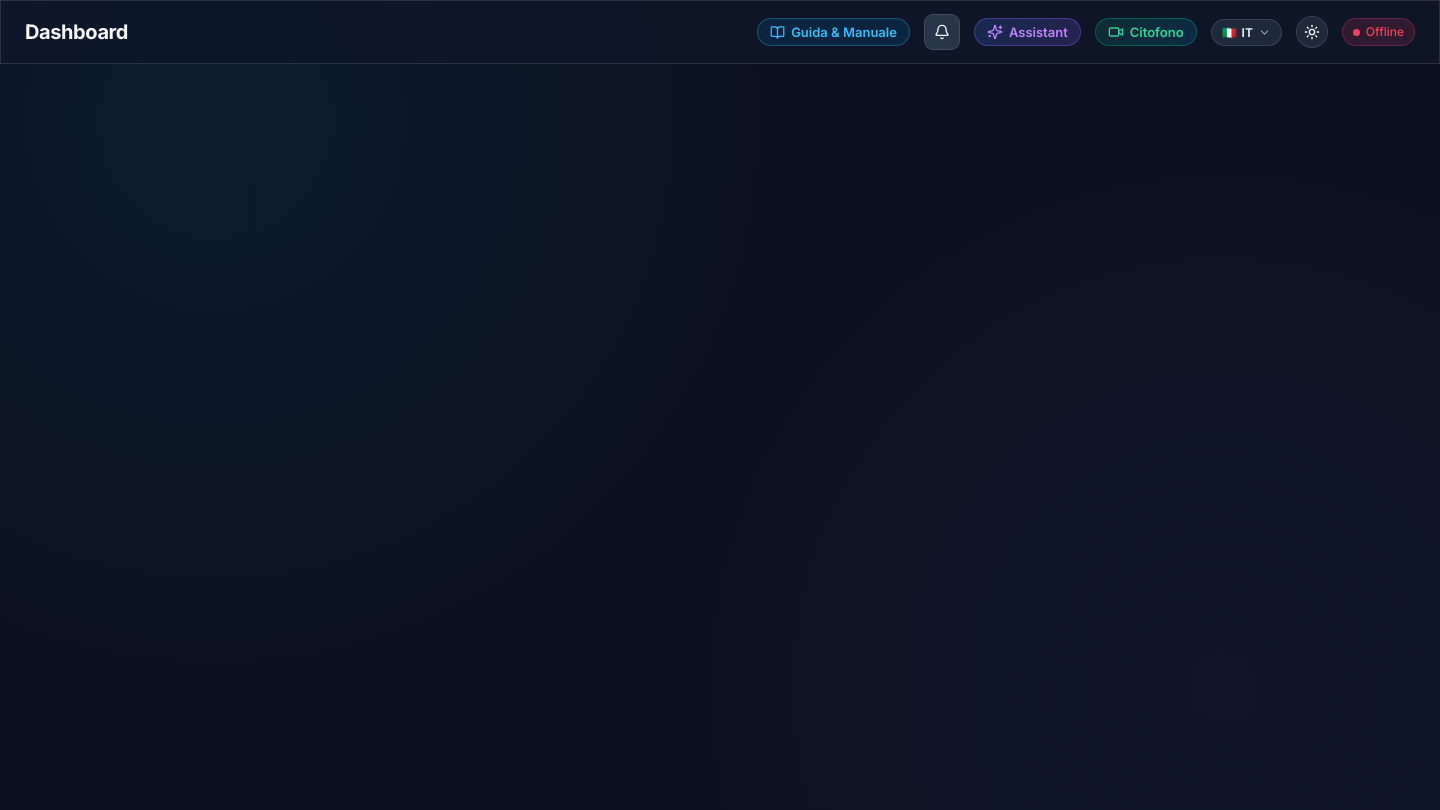
Test: AppTopbar.vue › opens language dropdown and switches language when selecting an option
The image size is (1440, 810).
Click the button with class "lang-quick-toggle". click: click(1246, 32)
box: [1211,18,1282,46]
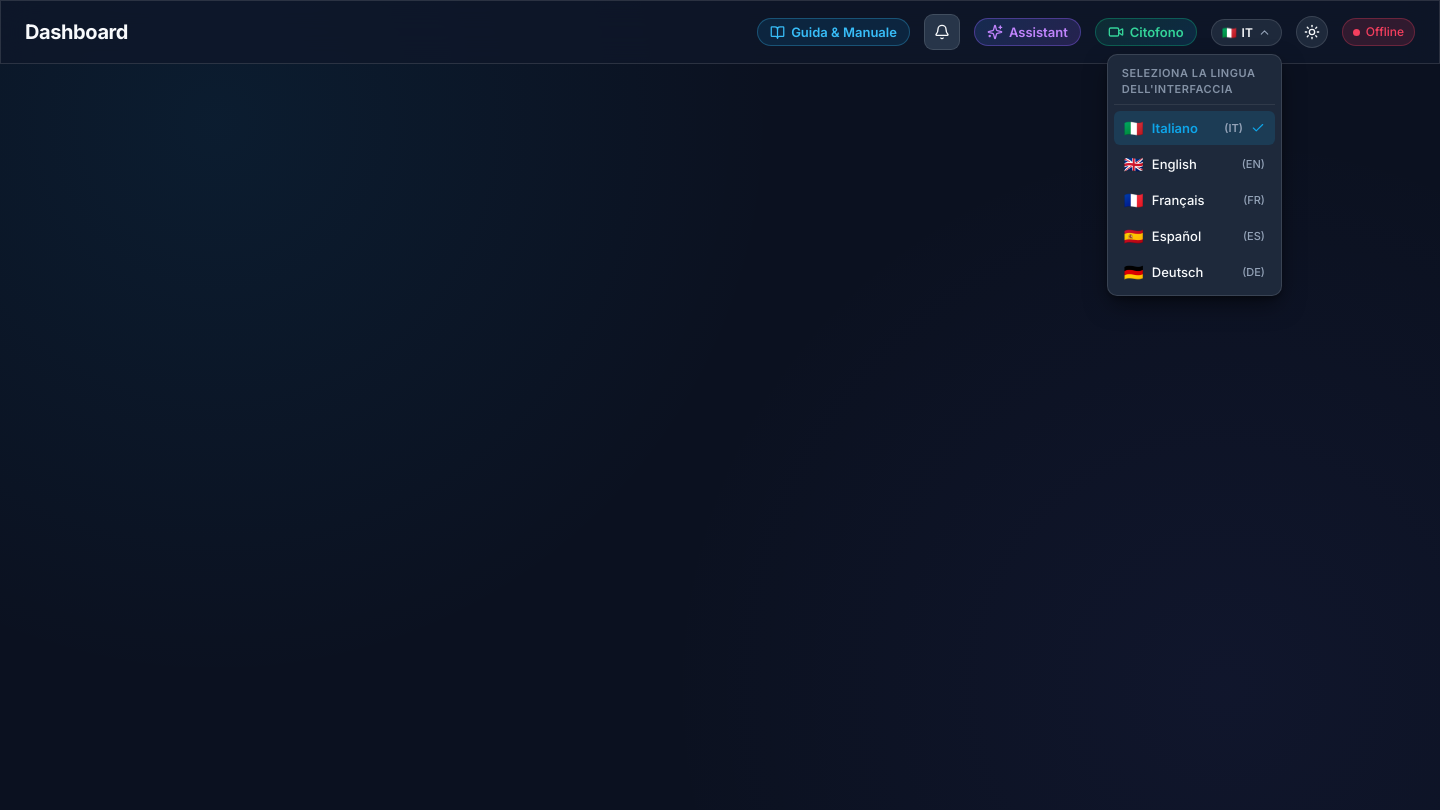
Expected: the menu with class "lang-menu" is shown, [1107,54,1282,296]
Expected: the menu item with class "lang-menu-item" showing "🇬🇧 English (EN)" is shown
Click the menu item with class "lang-menu-item" showing "🇬🇧 English (EN)". click: click(1194, 164)
box: [1114,146,1275,180]
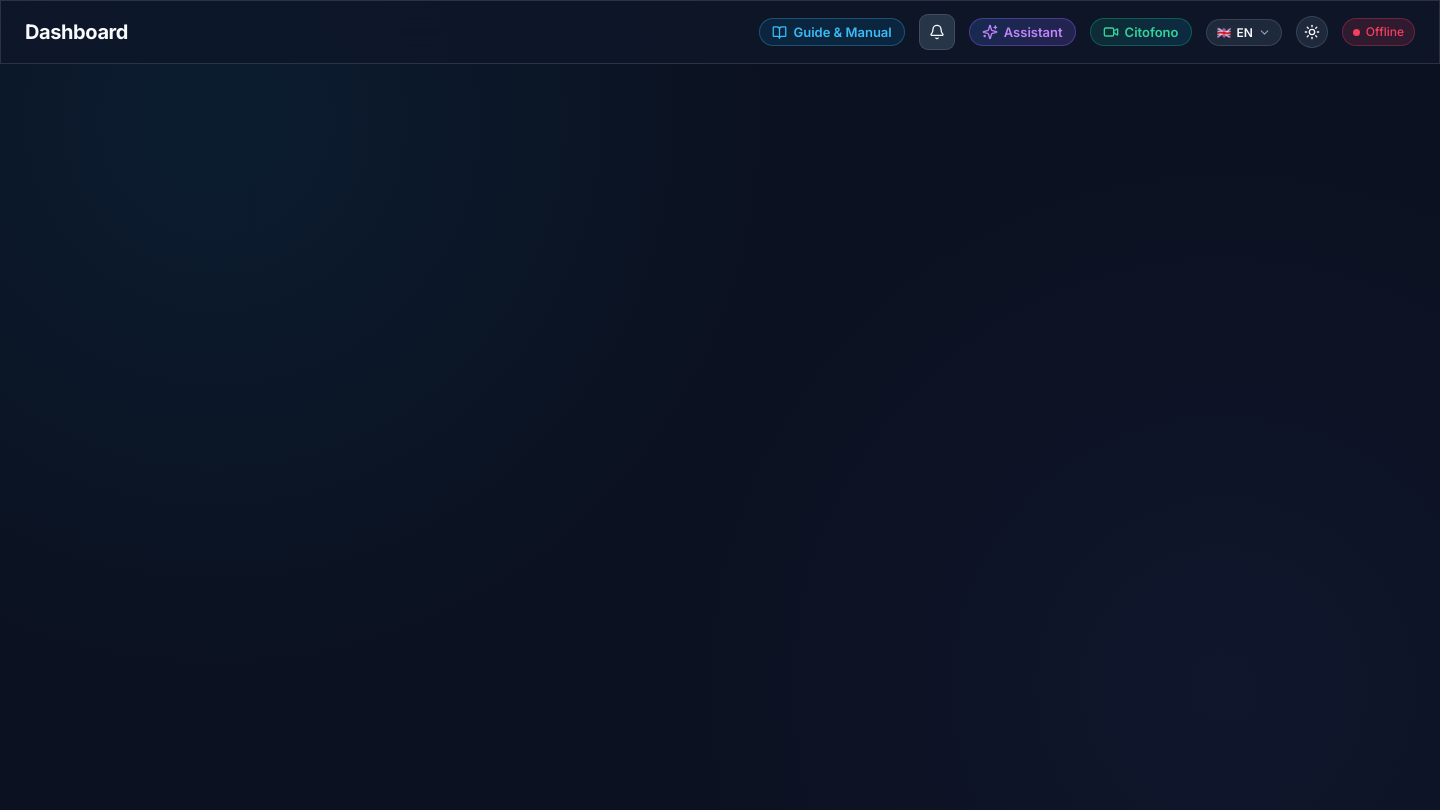
Expected: the button with class "lang-quick-toggle" shows "EN", [1206,18,1282,46]
